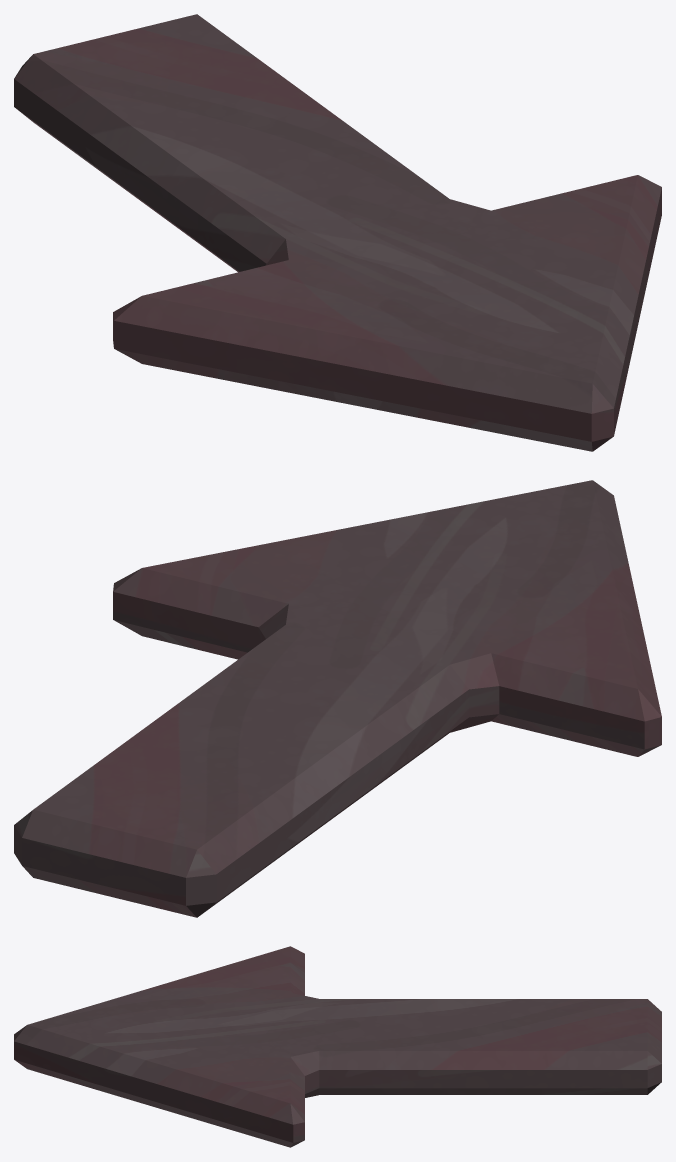
Rendered from Arrow.fbx.
3 views of the same model, one above another, from view 1: azimuth 30°, elevation 25°; view 2: azimuth 150°, elevation 25°; view 3: azimuth 270°, elevation 25° (orthographic). The views are drawn at different scales.
Visible parts, largest first — view 1: arrow; view 2: arrow; view 3: arrow.
Boxes of the visible parts, <box> form: arrow: <box>14,14,661,451</box>; arrow: <box>14,480,661,917</box>; arrow: <box>14,946,661,1147</box>.
Size of the model in its own units: 67.29 by 8 by 106.
